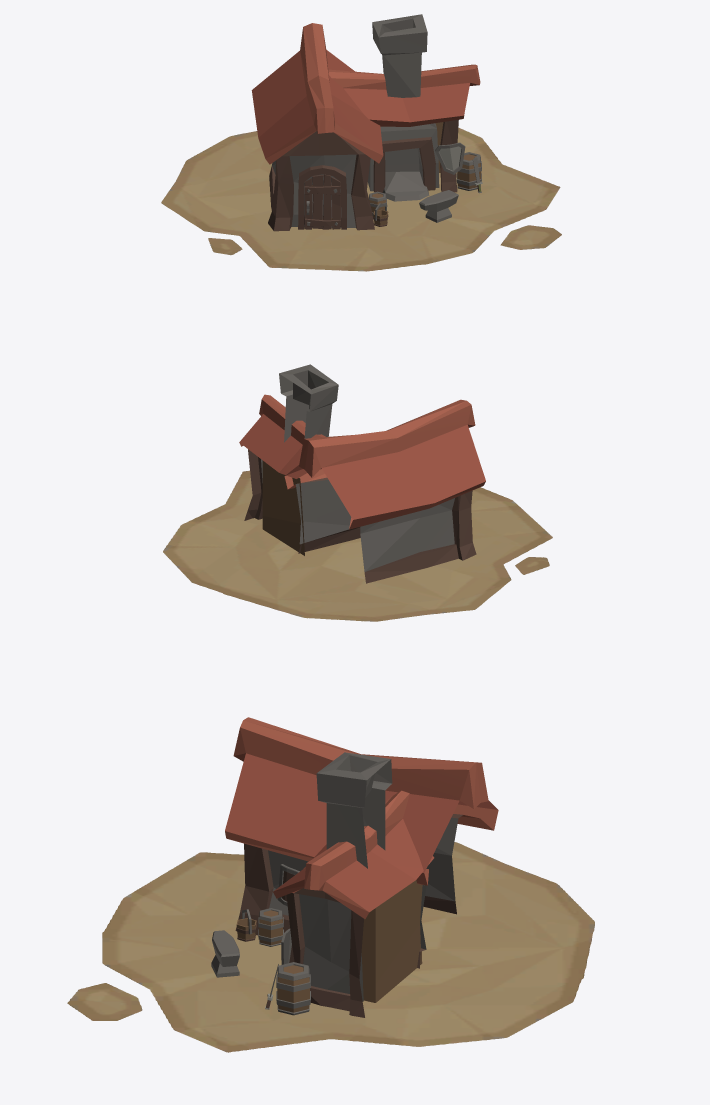
3 views of the same model, one above another, from view 1: azimuth 30°, elevation 25°; view 2: azimuth 150°, elevation 25°; view 3: azimuth 270°, elevation 25° (orthographic). The views are drawn at different scales.
Parts seen in each view (by area): view 1: utilityMarvensforge, groundDecal; view 2: utilityMarvensforge, groundDecal; view 3: groundDecal, utilityMarvensforge.
Boxes of the visible parts, x1,y1,x2,y2 form: utilityMarvensforge: (251,14,482,231); groundDecal: (161,127,561,271); utilityMarvensforge: (239,364,485,583); groundDecal: (163,470,552,621); groundDecal: (67,842,594,1052); utilityMarvensforge: (211,717,498,1017).
Size of the model in its own units: 4 by 1.42 by 4.
